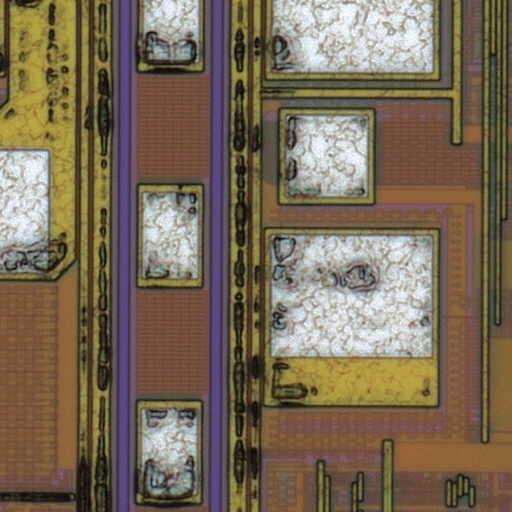COATING BAD: (1, 1, 437, 512)
